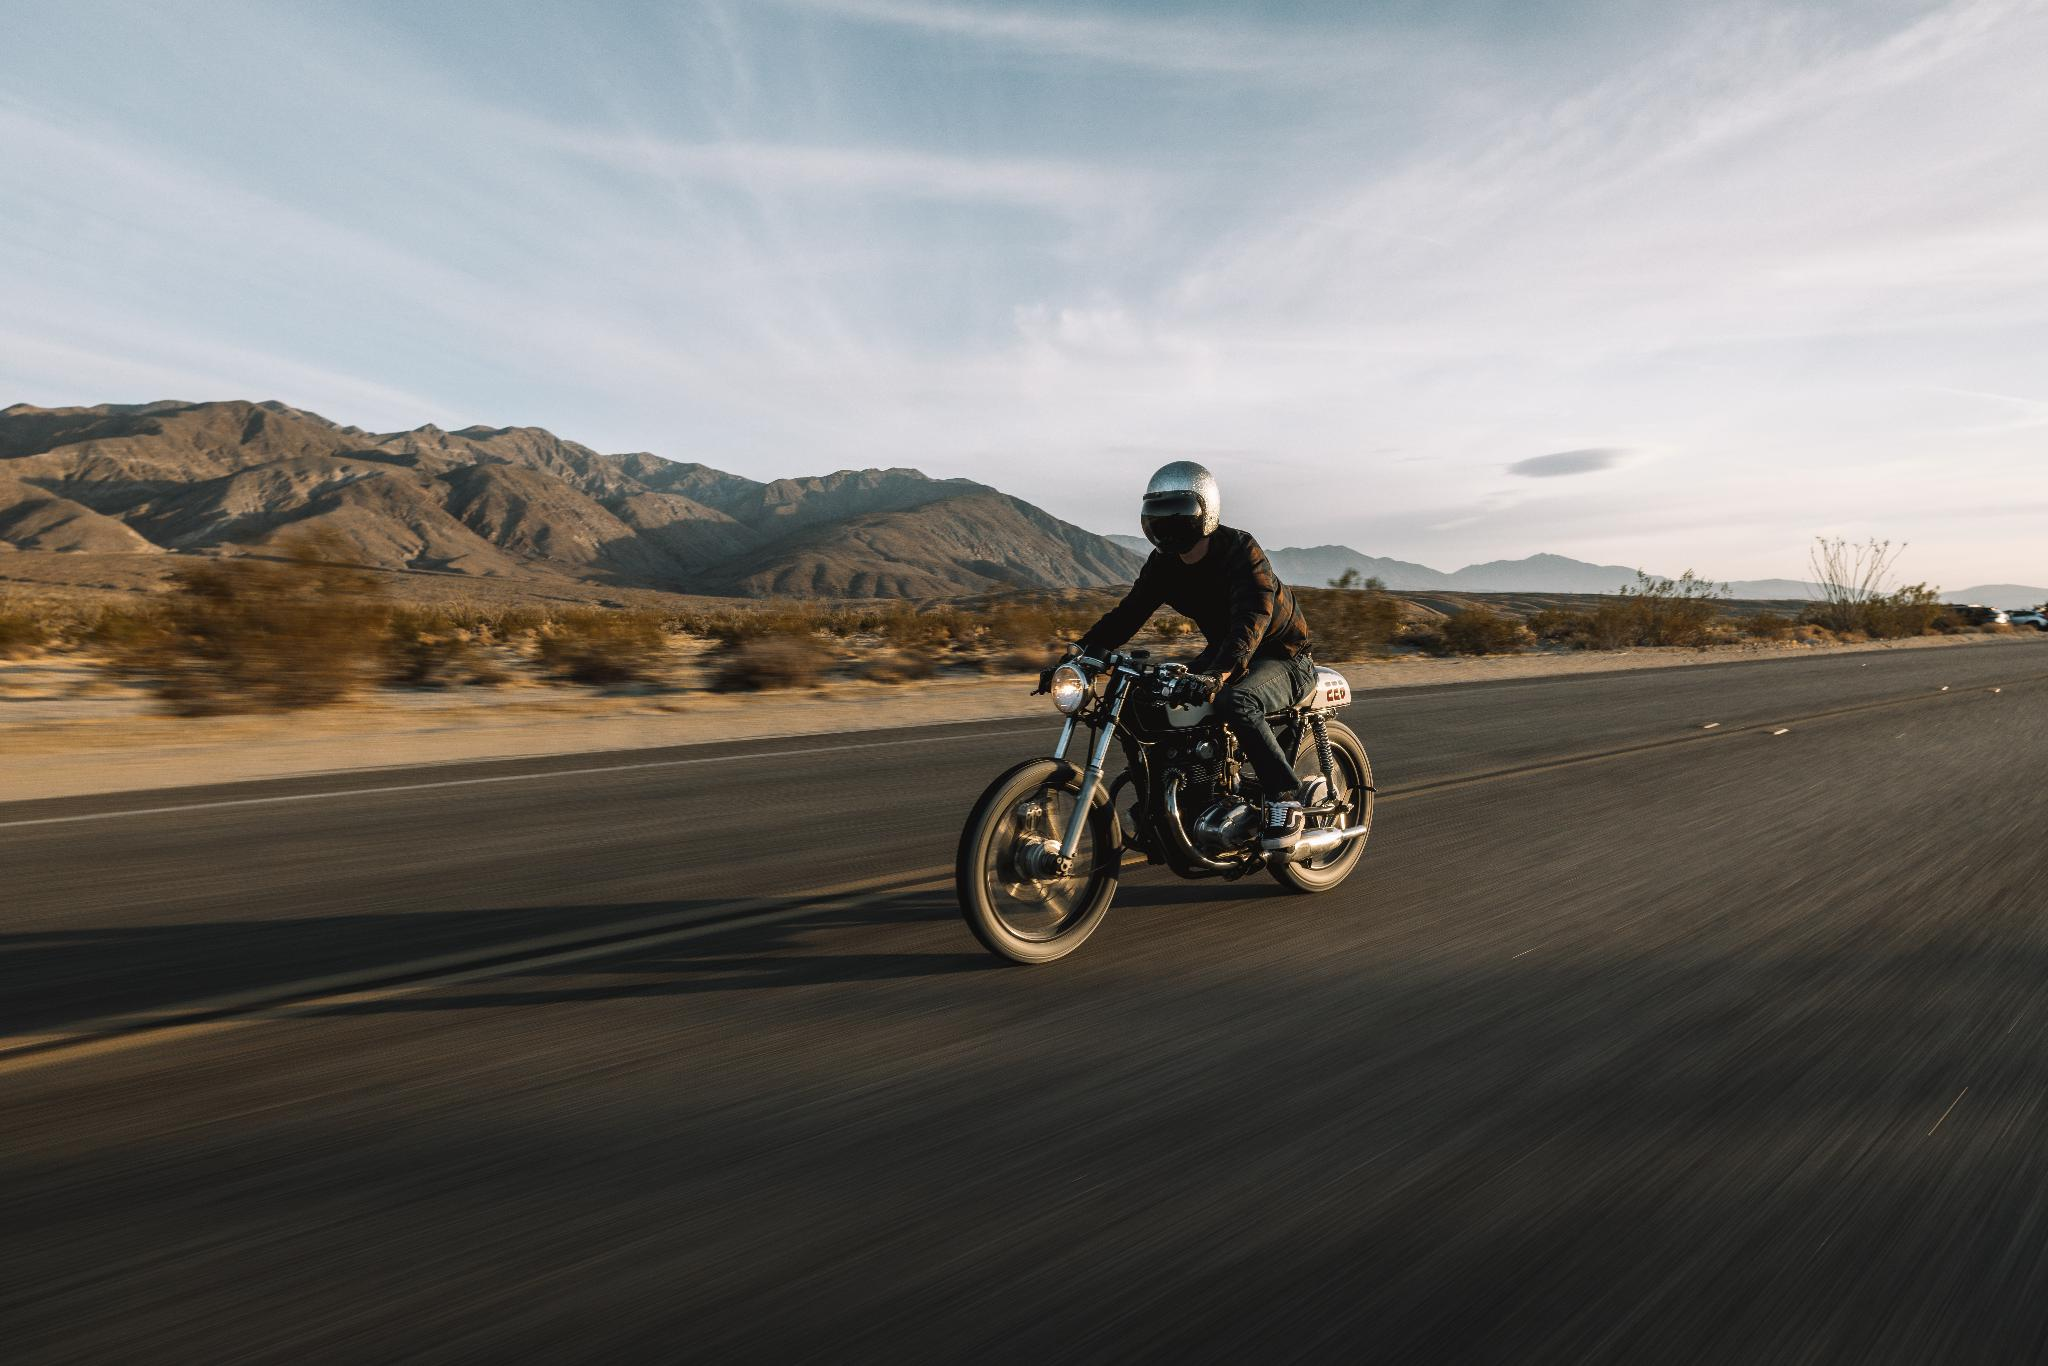motorcycle: (942, 595, 1387, 980)
